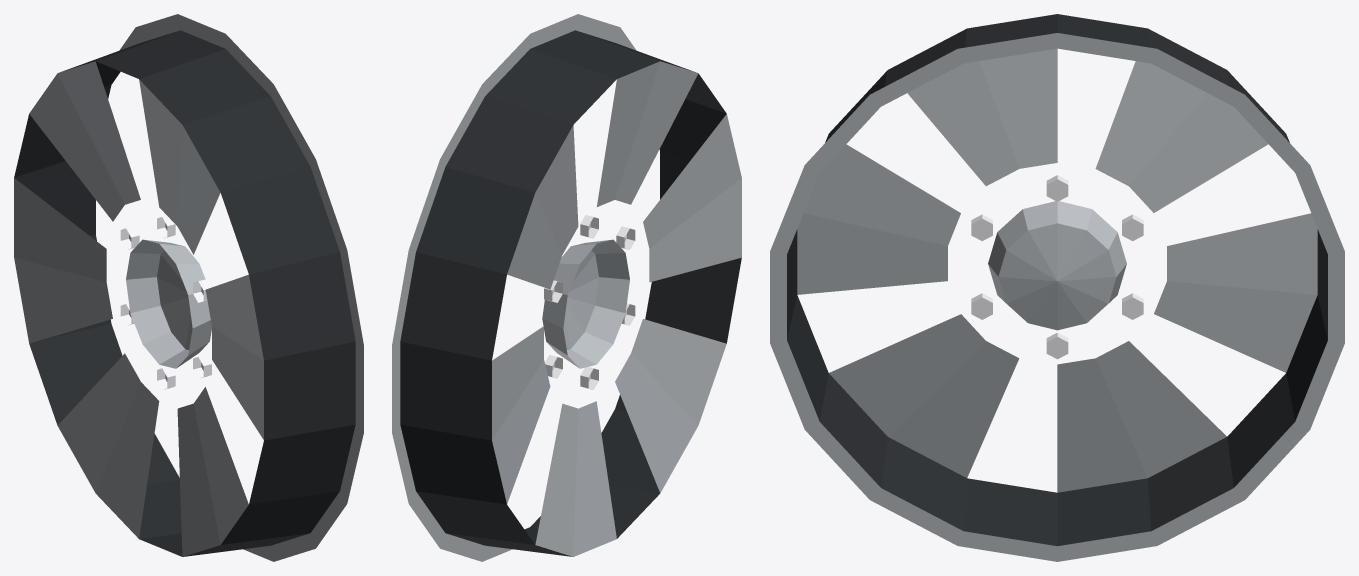
File: rim_09_method_con6.obj
The picture shows the model from 3 angles, left to right: view 1: azimuth 30°, elevation 25°; view 2: azimuth 150°, elevation 25°; view 3: azimuth 270°, elevation 25°; orthographic projection. The views are drawn at different scales.
Parts seen in each view (by area): view 1: rim_09_method_con6; view 2: rim_09_method_con6; view 3: rim_09_method_con6.
Boxes of the visible parts, left/top/right/bottom form: rim_09_method_con6: left=14, top=14, right=363, bottom=561; rim_09_method_con6: left=392, top=14, right=741, bottom=561; rim_09_method_con6: left=770, top=14, right=1344, bottom=561.
Bounding box in the file's own units: 0.0938 × 0.525 × 0.517.
